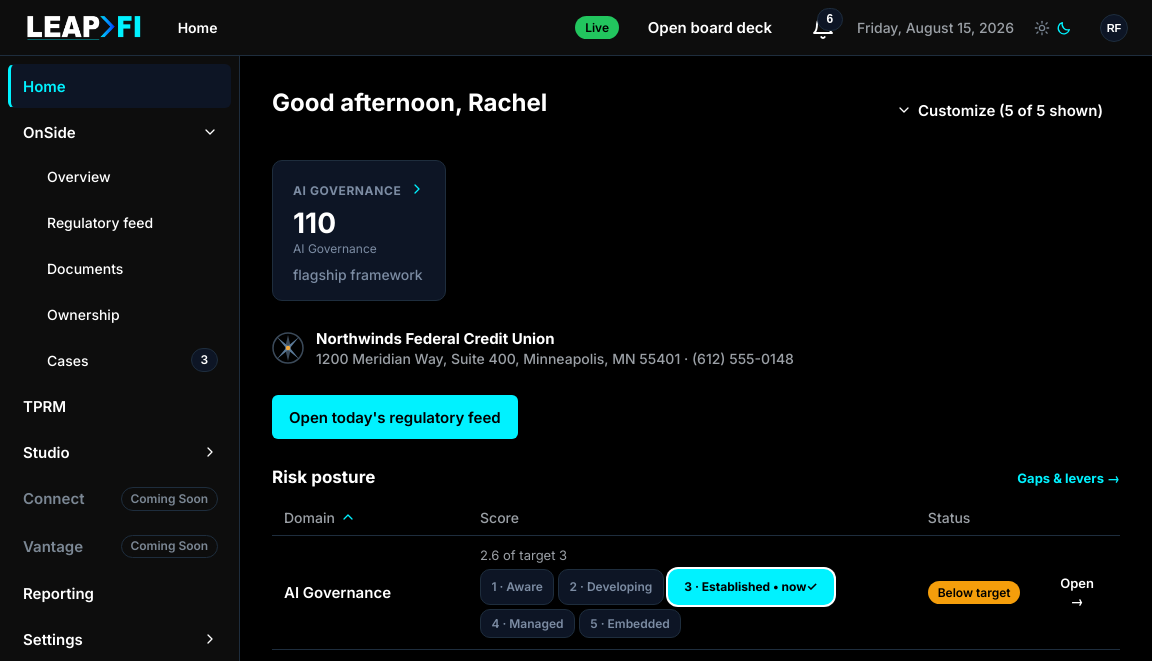
it: notification pipeline through the shell (SH-1/CS-01; base notify → renderBell, 2626–2642) › a store notify() write badges the bell live, Open lands on the case detail and clears the unread badge (openNotif 2644–2647)
Click the button "6": point(823, 28) left=801, top=6, right=845, bottom=50
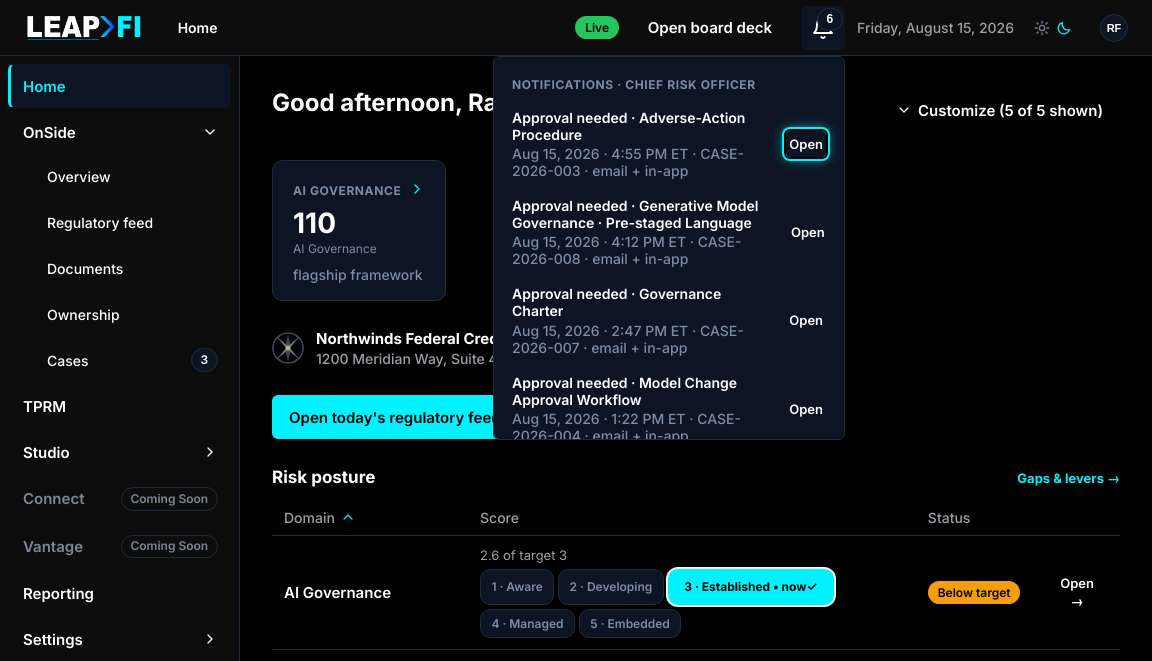
Click the 1st button "Open": point(806, 144) left=786, top=131, right=826, bottom=157
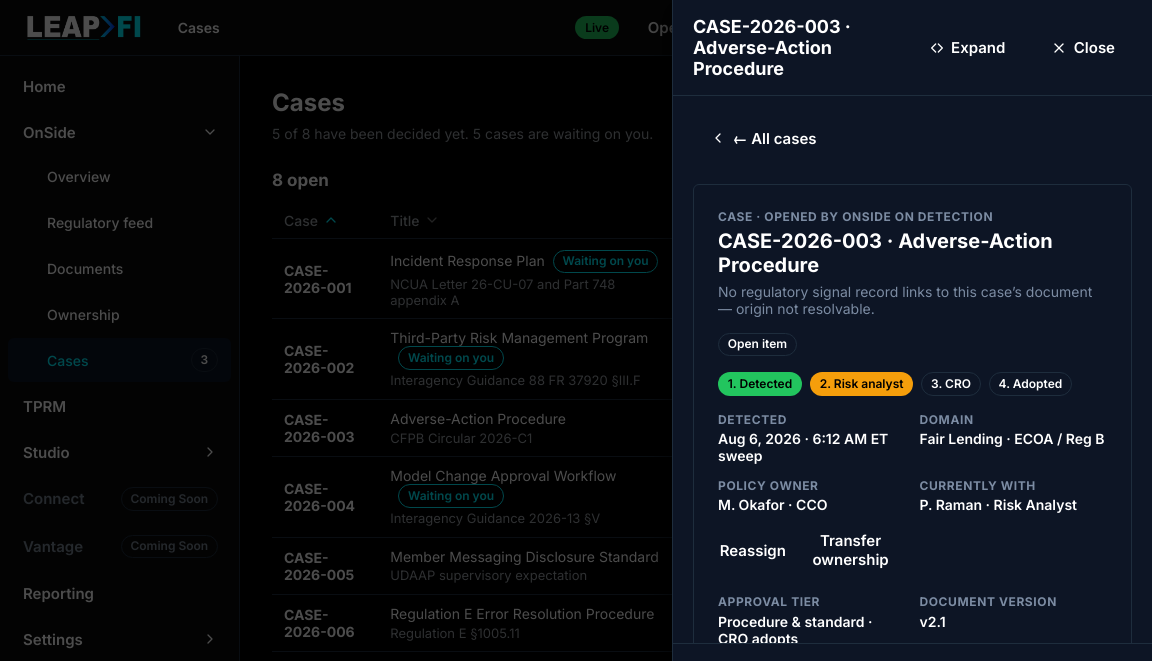
Now the button "← All cases" is shown, box left=693, top=116, right=834, bottom=160
